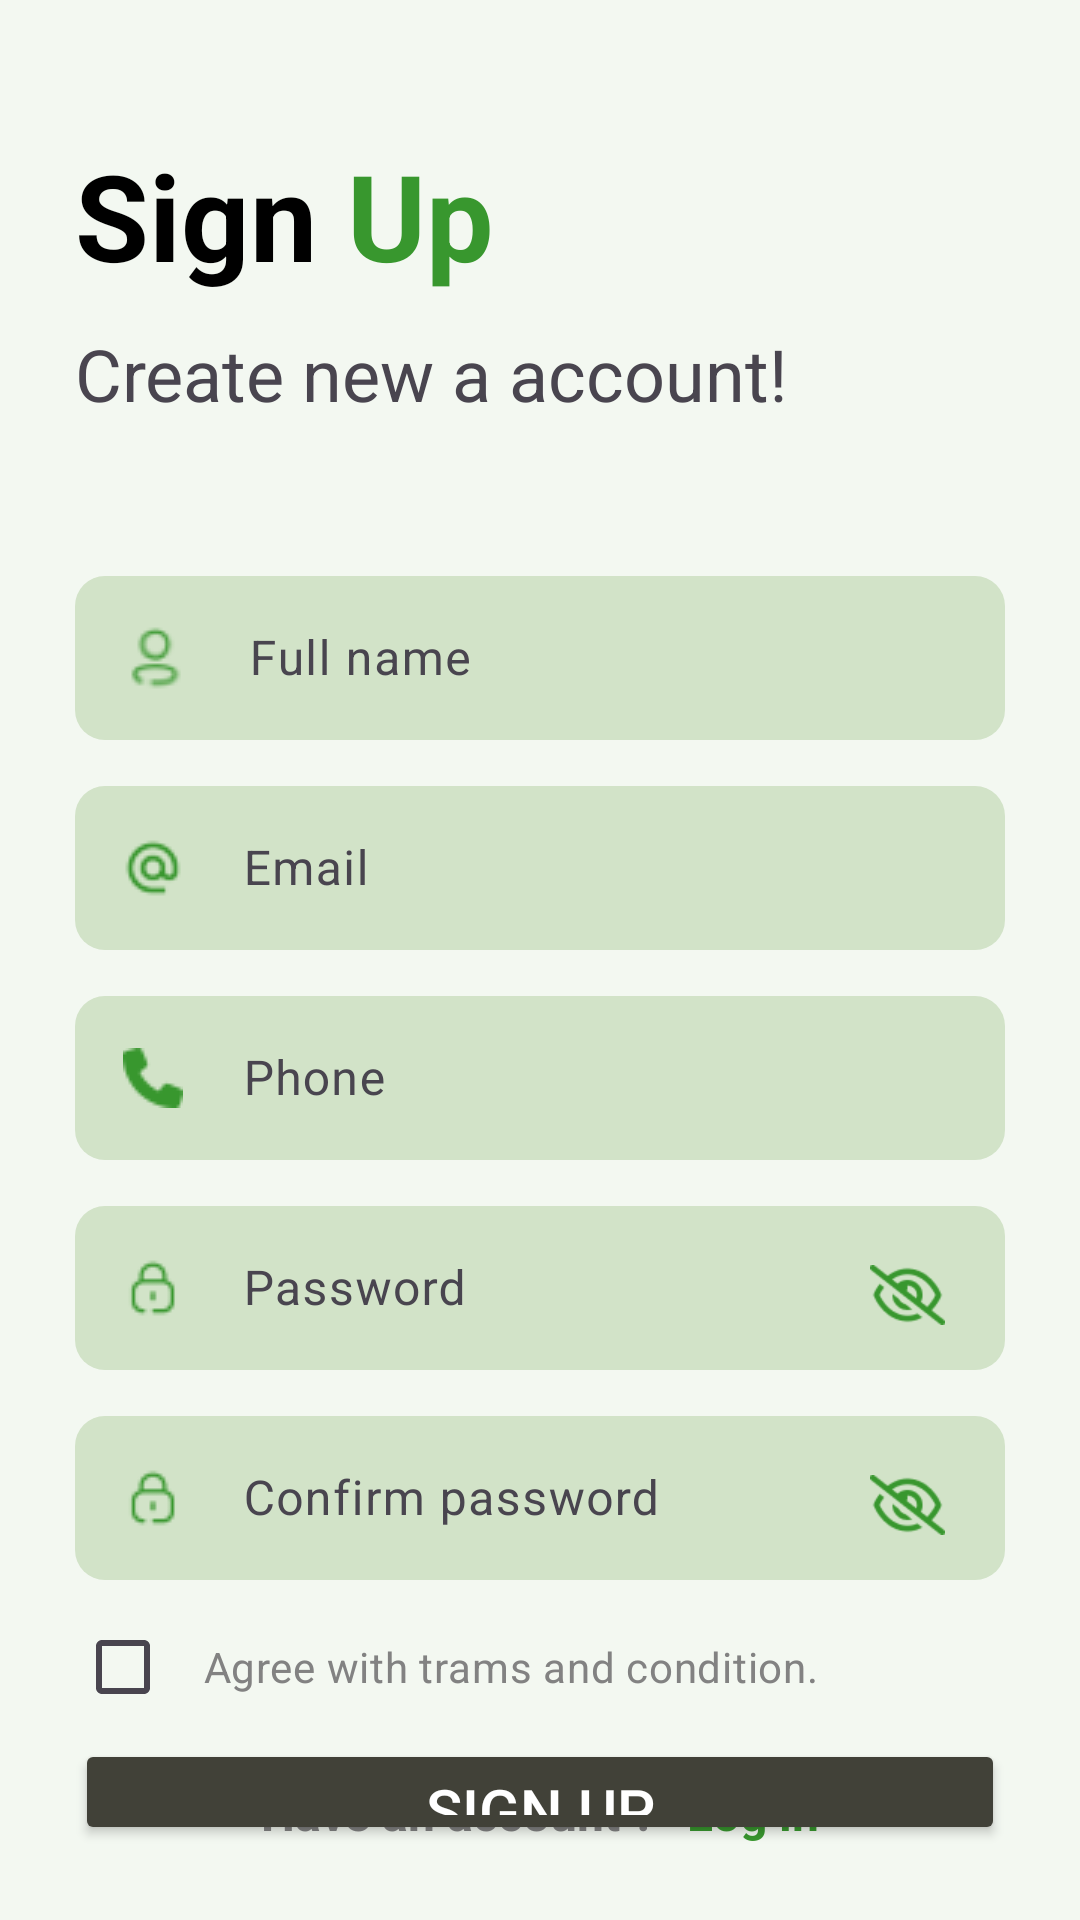

Icons on this 1080px x 1920px Android screen, each with the point to tap as point (x, y):
close eye: point (907, 1295), point (907, 1505)
